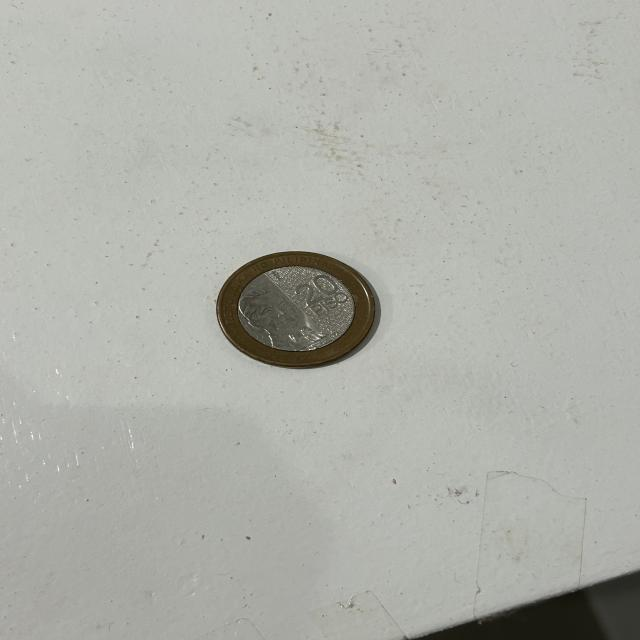20_New_Front: (293, 272, 351, 321)
